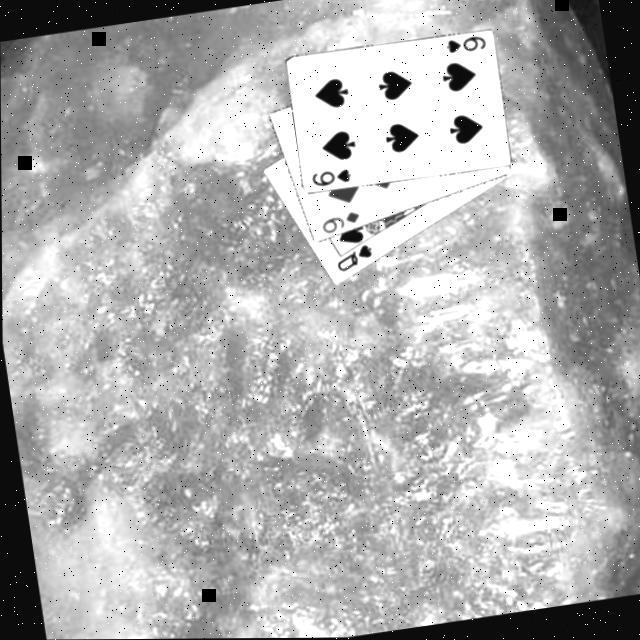6S: (310, 167, 356, 193), (445, 35, 491, 61)
9D: (318, 209, 366, 239)
QS: (332, 242, 380, 278)
